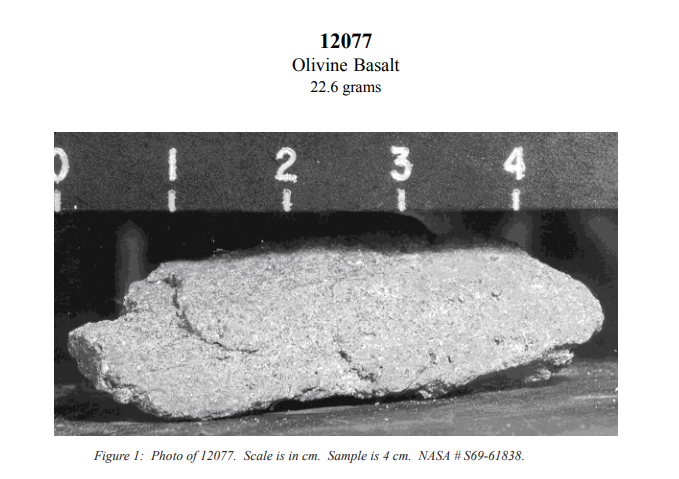Basalt: (56, 215, 612, 418)
